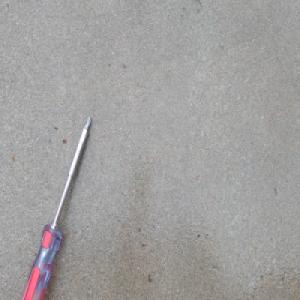Screwdriver: (16, 111, 93, 300)
